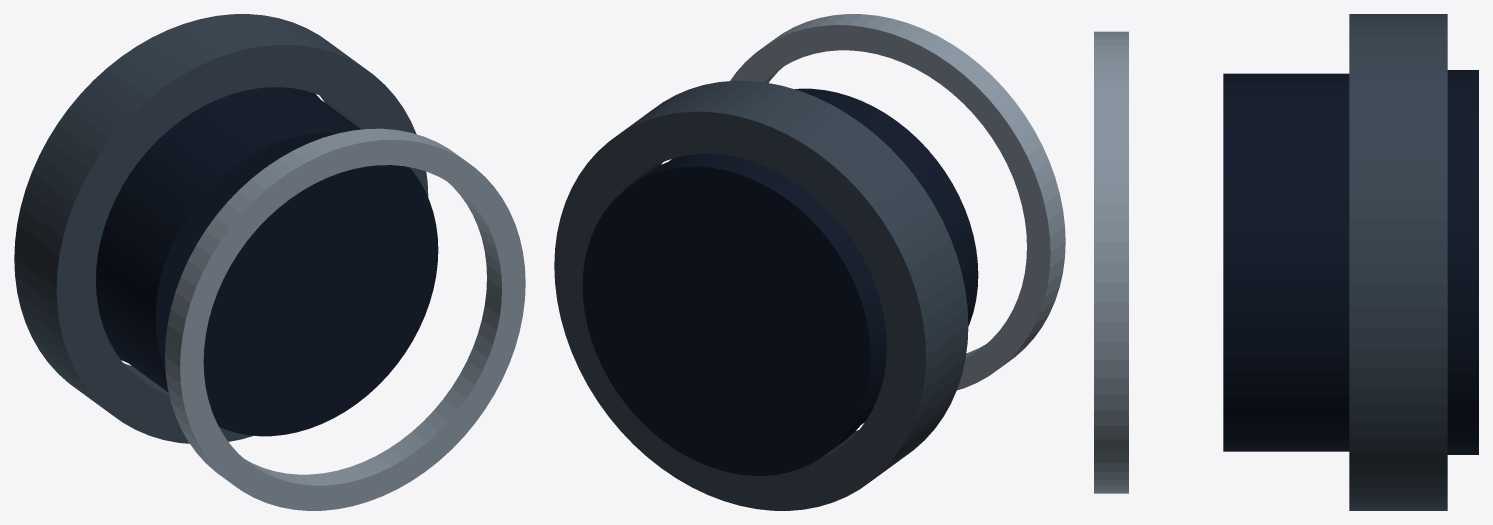
Rendered from ev_core_r10dp_void_tunnel.glb.
3 views of the same model, side by side, from view 1: azimuth 30°, elevation 25°; view 2: azimuth 150°, elevation 25°; view 3: azimuth 270°, elevation 25° (orthographic). The views are drawn at different scales.
Visible parts, largest first — view 1: void_throat, rear_collar, front_lip; view 2: rear_void, rear_collar, front_lip, void_throat; view 3: rear_collar, void_throat, front_lip, rear_void.
Part boxes in pixels (x1=…): void_throat: x1=96, y1=87, x2=438, y2=436; rear_collar: x1=14, y1=14, x2=428, y2=443; front_lip: x1=165, y1=128, x2=525, y2=510; rear_void: x1=582, y1=154, x2=886, y2=475; rear_collar: x1=554, y1=80, x2=968, y2=510; front_lip: x1=730, y1=14, x2=1065, y2=390; void_throat: x1=669, y1=88, x2=978, y2=423; rear_collar: x1=1349, y1=14, x2=1447, y2=510; void_throat: x1=1223, y1=73, x2=1349, y2=451; front_lip: x1=1094, y1=31, x2=1128, y2=493; rear_void: x1=1447, y1=70, x2=1478, y2=454.
Bounding box in the file's own units: 142 × 142 × 110.
